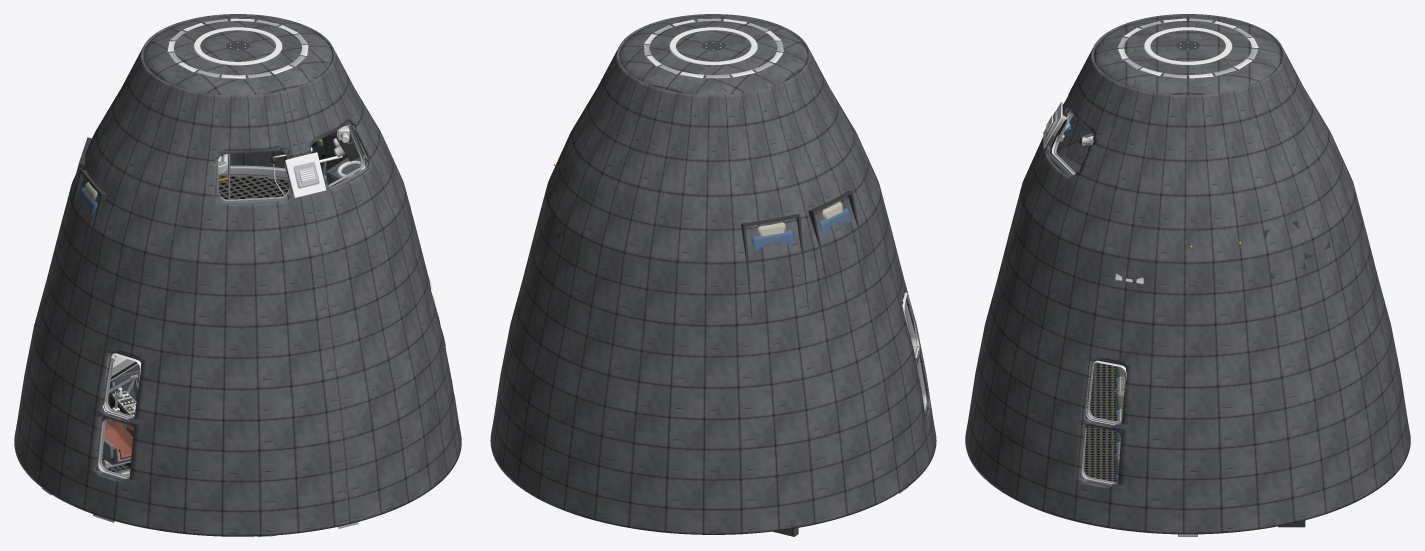
The model's file is Conical3vInterior.fbx.
The picture shows the model from 3 angles, left to right: view 1: azimuth 30°, elevation 25°; view 2: azimuth 150°, elevation 25°; view 3: azimuth 270°, elevation 25°; orthographic projection.
Visible parts, largest first — view 1: Mesh_WallPanel, Mesh_FrameDark.001, Mesh_Frame.001, Mesh_FrameDark, Mesh_FloorGrate, Mesh_ModulePlate, Mesh_Bezel, Mesh_Frame, Mesh_Locker, Mesh_Cushion; view 2: Mesh_WallPanel, Mesh_FrameDark.001, Mesh_ModulePlate, Mesh_SleepingBag, Mesh_Frame.001, Mesh_Bezel, Mesh_Towel; view 3: Mesh_WallPanel, Mesh_FloorGrate, Mesh_FrameDark.001, Mesh_FrameDark, Mesh_Frame.001, Mesh_Bezel, Mesh_Canvas, Mesh_Frame.
Part boxes in pixels (left/top/right/bottom): Mesh_WallPanel: left=14, top=14, right=461, bottom=536; Mesh_FrameDark.001: left=112, top=18, right=326, bottom=367; Mesh_Frame.001: left=42, top=19, right=365, bottom=536; Mesh_FrameDark: left=85, top=40, right=368, bottom=480; Mesh_FloorGrate: left=55, top=174, right=420, bottom=472; Mesh_ModulePlate: left=59, top=125, right=363, bottom=414; Mesh_Bezel: left=98, top=124, right=438, bottom=478; Mesh_Frame: left=100, top=124, right=362, bottom=477; Mesh_Locker: left=108, top=157, right=366, bottom=405; Mesh_Cushion: left=104, top=380, right=138, bottom=459; Mesh_WallPanel: left=490, top=14, right=936, bottom=534; Mesh_FrameDark.001: left=644, top=19, right=783, bottom=78; Mesh_ModulePlate: left=540, top=170, right=869, bottom=317; Mesh_SleepingBag: left=751, top=208, right=850, bottom=250; Mesh_Frame.001: left=643, top=18, right=926, bottom=493; Mesh_Bezel: left=902, top=292, right=926, bottom=411; Mesh_Towel: left=757, top=202, right=843, bottom=236; Mesh_WallPanel: left=965, top=14, right=1410, bottom=534; Mesh_FloorGrate: left=1027, top=285, right=1348, bottom=481; Mesh_FrameDark.001: left=1043, top=18, right=1258, bottom=148; Mesh_FrameDark: left=1047, top=40, right=1199, bottom=486; Mesh_Frame.001: left=1046, top=18, right=1258, bottom=536; Mesh_Bezel: left=1052, top=112, right=1126, bottom=483; Mesh_Canvas: left=1116, top=366, right=1125, bottom=481; Mesh_Frame: left=1051, top=112, right=1120, bottom=483.
Bounding box in the file's own units: 3.61 × 3.71 × 3.61.
